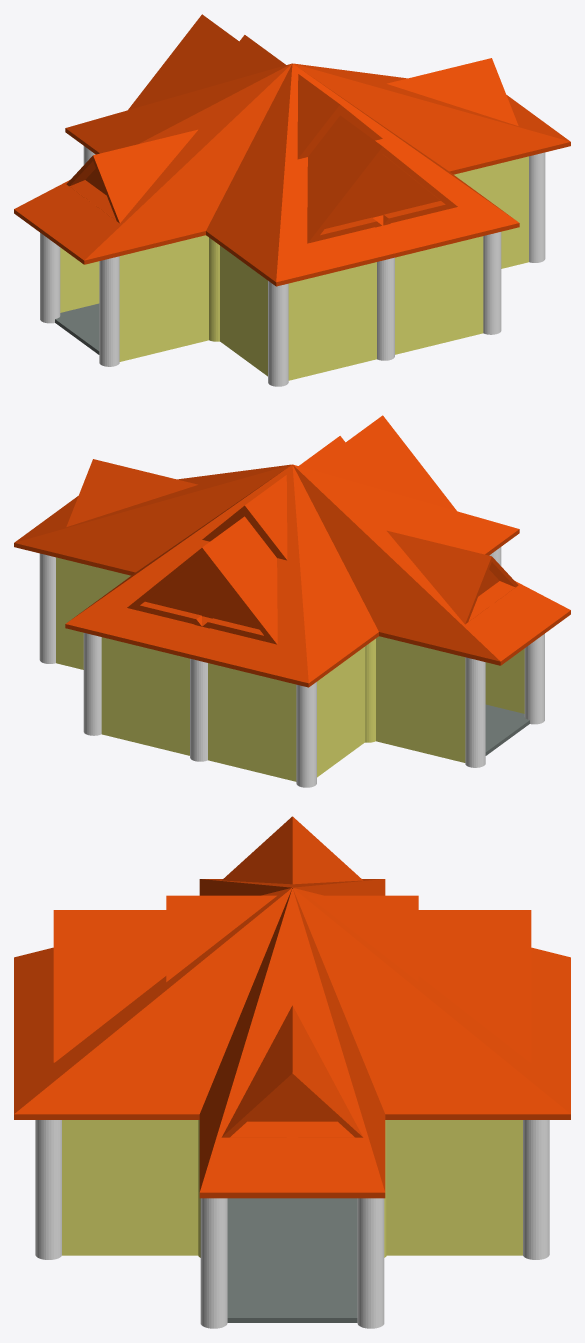
Rendered from museum.fbx.
3 renders of one model, top to bottom at view 1: azimuth 30°, elevation 25°; view 2: azimuth 150°, elevation 25°; view 3: azimuth 270°, elevation 25°, orthographic. The views are drawn at different scales.
Visible parts, largest first — view 1: Cube.010; view 2: Cube.010; view 3: Cube.010.
Boxes of the visible parts, x1=… form: Cube.010: x1=14, y1=14, x2=570, y2=386; Cube.010: x1=14, y1=415, x2=570, y2=787; Cube.010: x1=14, y1=816, x2=570, y2=1328.
Size of the model in its own units: 2745 by 1212 by 2059.
